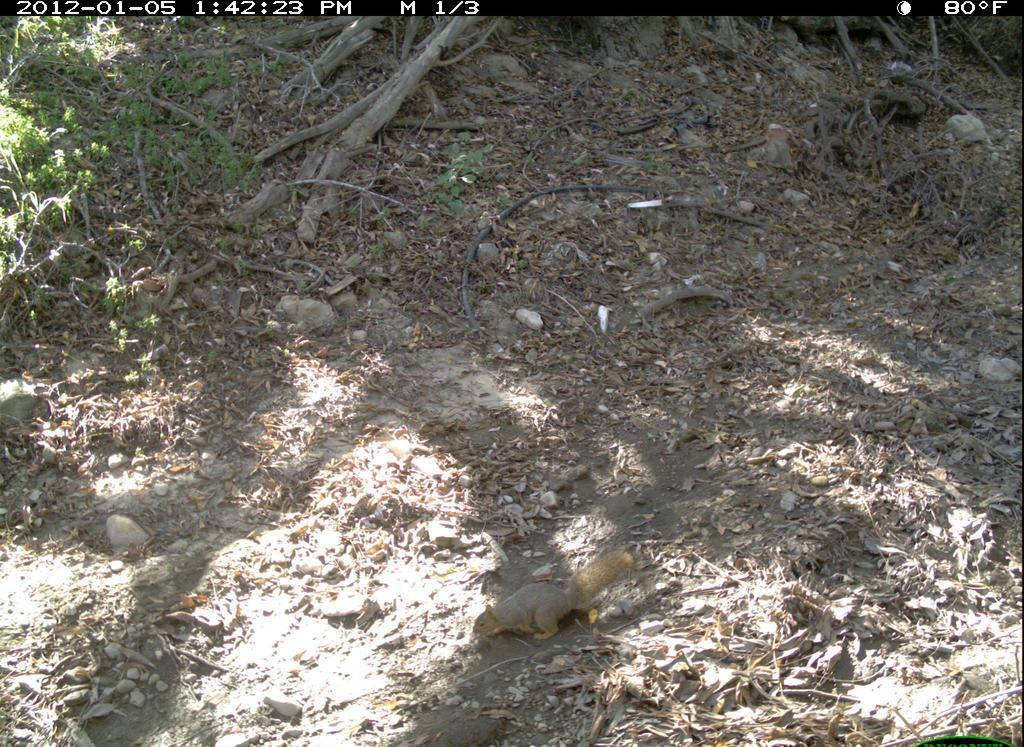squirrel: (449, 529, 674, 671)
